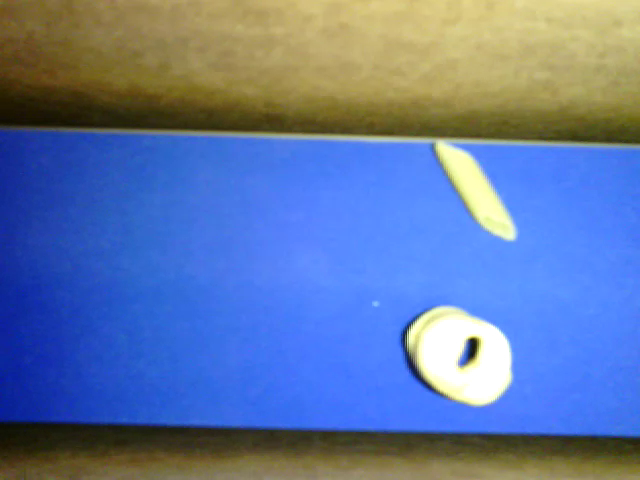penne: (433, 140, 516, 240)
tortellini: (404, 303, 513, 406)
